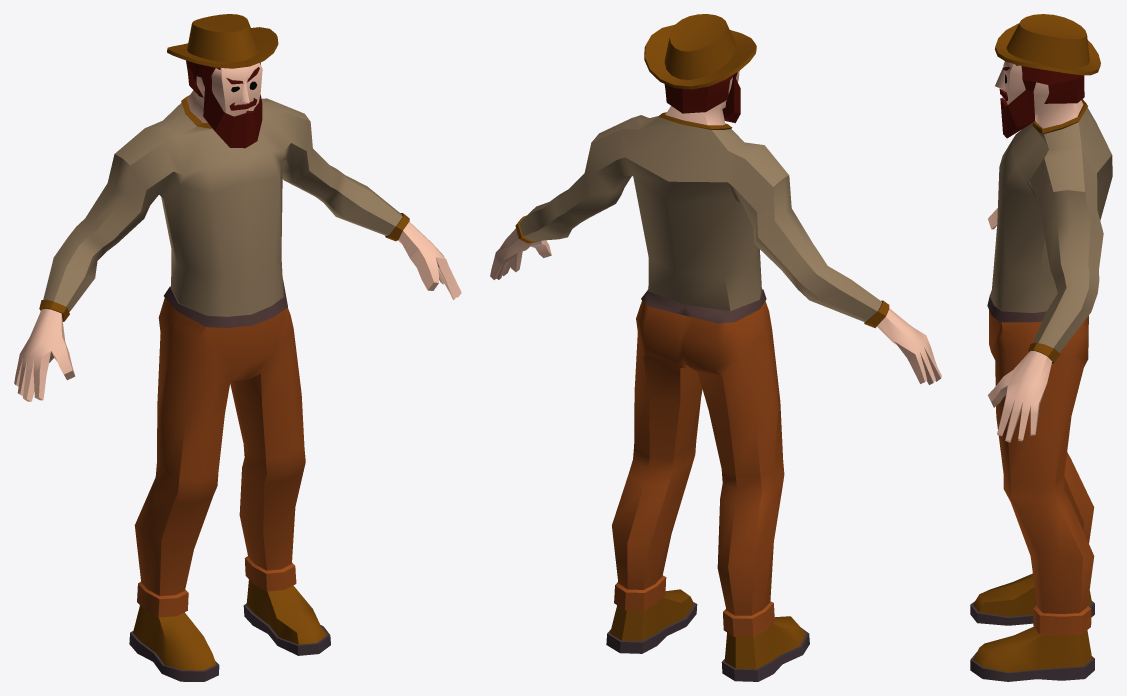
File: char1 1.fbx
The picture shows the model from 3 angles, left to right: view 1: azimuth 30°, elevation 25°; view 2: azimuth 150°, elevation 25°; view 3: azimuth 270°, elevation 25°; orthographic projection.
Parts seen in each view (by area): view 1: LowPolyCharacter2; view 2: LowPolyCharacter2; view 3: LowPolyCharacter2.
Boxes of the visible parts, <box> form: LowPolyCharacter2: <box>14,14,461,681</box>; LowPolyCharacter2: <box>490,14,941,681</box>; LowPolyCharacter2: <box>970,14,1112,681</box>.
Bounding box in the file's own units: 139 × 188 × 39.22.
